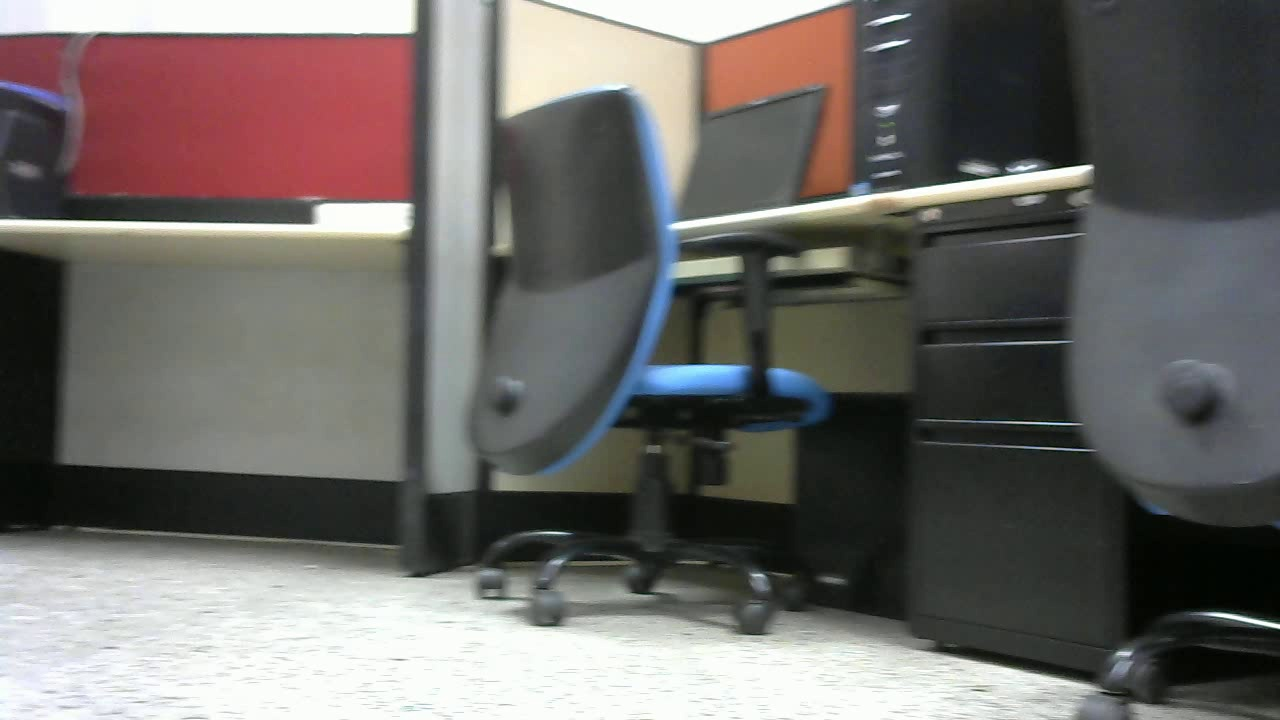chair: (464, 85, 836, 634)
